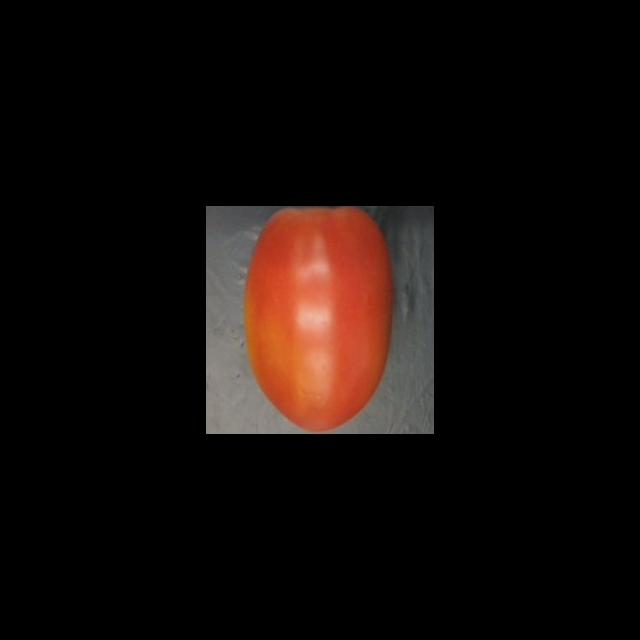tomato: (233, 206, 399, 434)
